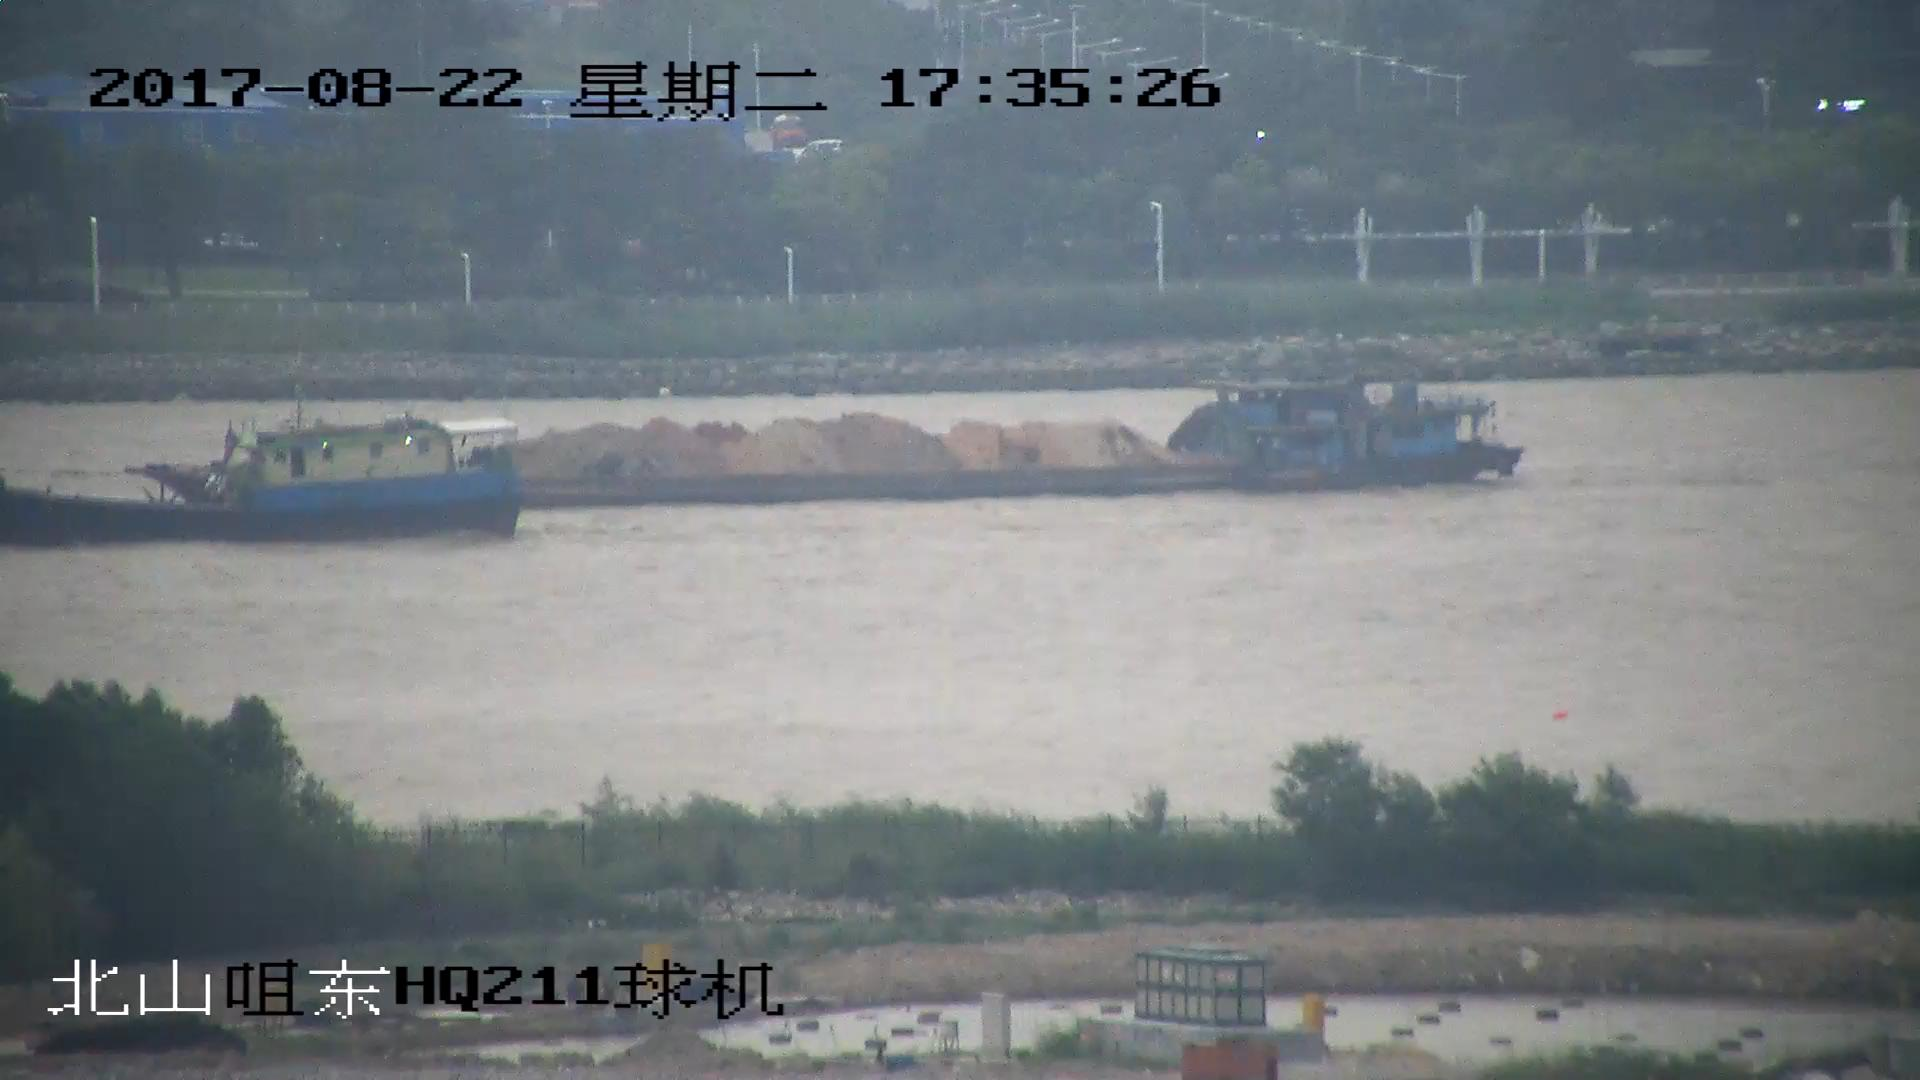fishing boat: (1, 416, 531, 550)
ore carrier: (91, 367, 1523, 497)
